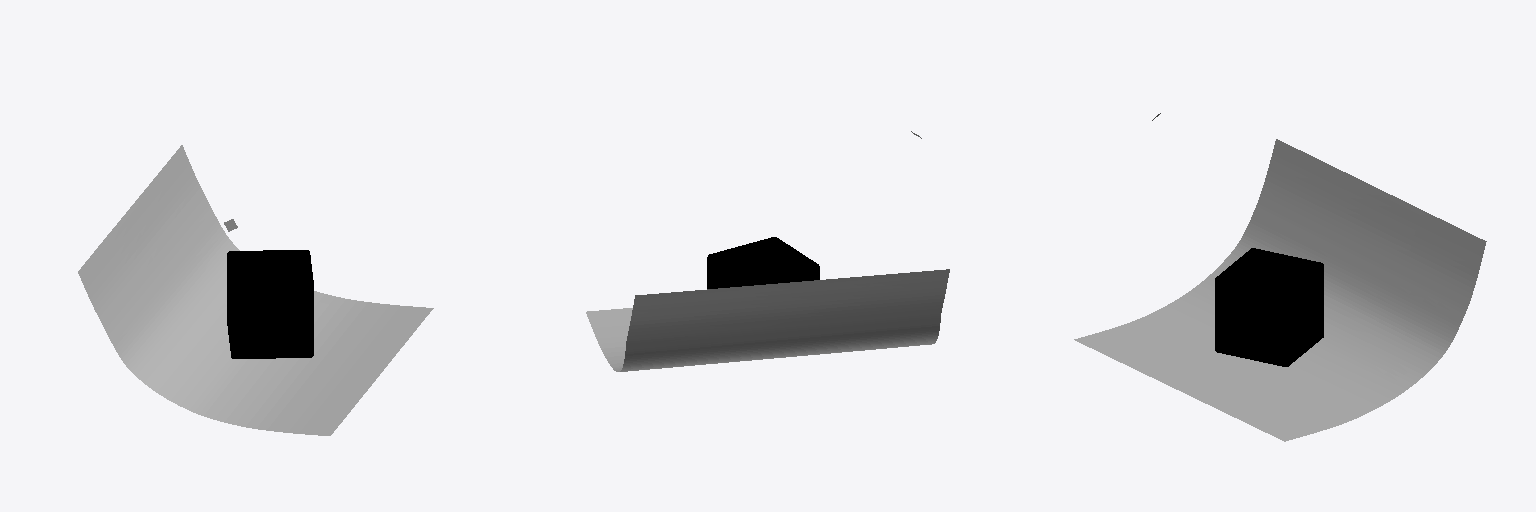
File: torus_maya.obj
3 views of the same model, side by side, from view 1: azimuth 30°, elevation 25°; view 2: azimuth 150°, elevation 25°; view 3: azimuth 270°, elevation 25° (orthographic).
Parts seen in each view (by area): view 1: torus:Mesh group polySurface2 polySurface4 polySurface8, polySurface1 torus:Mesh group; view 2: torus:Mesh group polySurface2 polySurface4 polySurface8, polySurface1 torus:Mesh group; view 3: torus:Mesh group polySurface2 polySurface4 polySurface8, polySurface1 torus:Mesh group.
Boxes of the visible parts, x1=… form: torus:Mesh group polySurface2 polySurface4 polySurface8: x1=78, y1=145, x2=433, y2=435; polySurface1 torus:Mesh group: x1=227, y1=250, x2=313, y2=358; torus:Mesh group polySurface2 polySurface4 polySurface8: x1=586, y1=269, x2=949, y2=371; polySurface1 torus:Mesh group: x1=707, y1=237, x2=819, y2=288; torus:Mesh group polySurface2 polySurface4 polySurface8: x1=1074, y1=139, x2=1486, y2=441; polySurface1 torus:Mesh group: x1=1215, y1=248, x2=1323, y2=366.
Size of the model in its own units: 81.31 by 43.74 by 80.75.